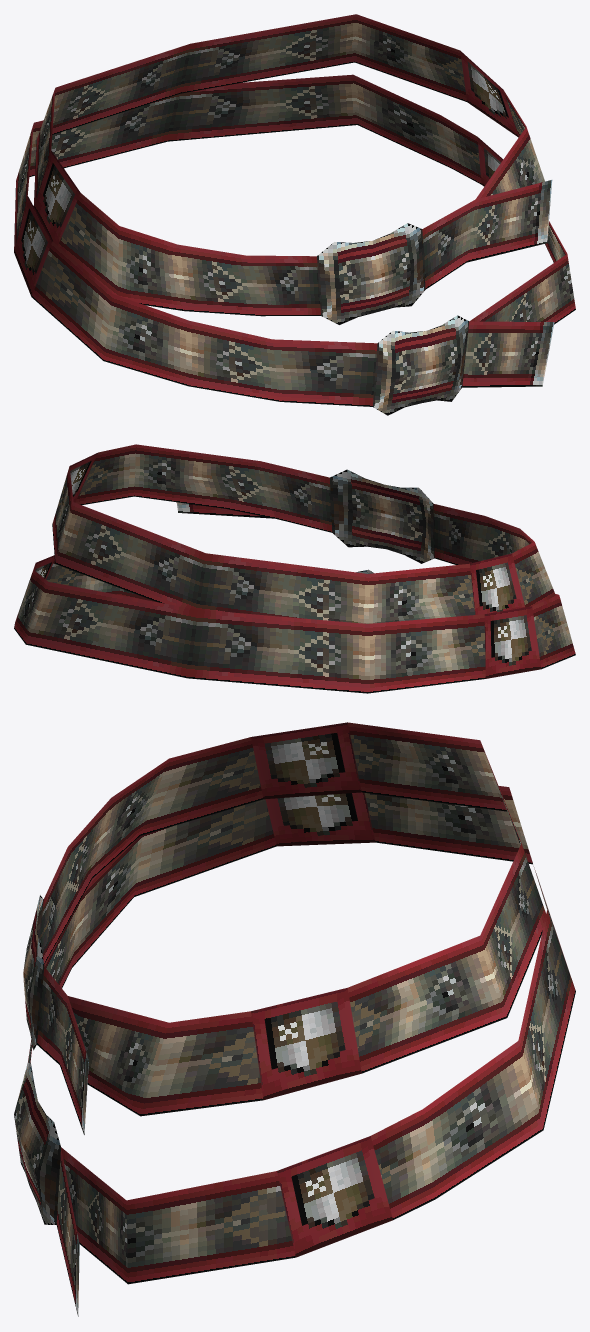
The model's file is f_wst197.glb.
The picture shows the model from 3 angles, top to bottom: view 1: azimuth 30°, elevation 25°; view 2: azimuth 150°, elevation 25°; view 3: azimuth 270°, elevation 25°; orthographic projection. The views are drawn at different scales.
Bounding box in the file's own units: 39.74 × 20.03 × 28.4.
1 material, 1 textured.
